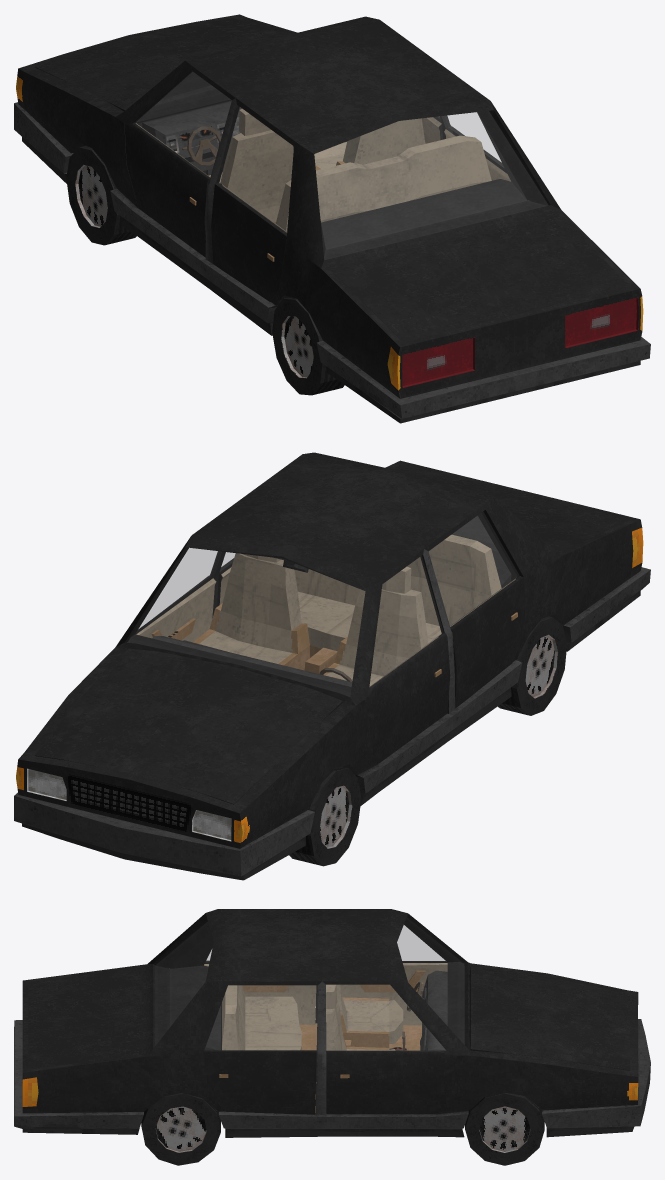
File: Car.glb
The picture shows the model from 3 angles, top to bottom: view 1: azimuth 30°, elevation 25°; view 2: azimuth 150°, elevation 25°; view 3: azimuth 270°, elevation 25°; orthographic projection. The views are drawn at different scales.
Visible parts, largest first — view 1: Car_Base, Trunk, L_Door_Front, L_Door_Back, Car_Hood, L_Wheel_Back, L_Wheel_Front, R_Door_Back, SteeringWheel; view 2: Car_Base, Car_Hood, L_Door_Front, L_Door_Back, Trunk, R_Door_Front, L_Wheel_Front, L_Wheel_Back; view 3: Car_Base, R_Door_Front, R_Door_Back, Car_Hood, Trunk, R_Wheel_Front, R_Wheel_Back, L_Door_Front, L_Door_Back.
Part boxes in pixels (box(x1,y1,x2,y2)): Car_Base: box(14, 14, 650, 423); Trunk: box(331, 215, 630, 341); L_Door_Front: box(124, 72, 231, 257); L_Door_Back: box(211, 108, 293, 301); Car_Hood: box(35, 18, 287, 111); L_Wheel_Back: box(272, 297, 344, 395); L_Wheel_Front: box(66, 145, 136, 245); R_Door_Back: box(442, 113, 510, 181); SteeringWheel: box(187, 126, 221, 165); Car_Base: box(14, 452, 650, 880); Car_Hood: box(34, 648, 342, 804); L_Door_Front: box(364, 557, 450, 763); L_Door_Back: box(429, 512, 524, 708); Trunk: box(392, 464, 630, 553); R_Door_Front: box(135, 548, 217, 642); L_Wheel_Front: box(289, 766, 361, 866); L_Wheel_Back: box(498, 616, 566, 715); Car_Base: box(14, 909, 650, 1137); R_Door_Front: box(326, 985, 456, 1114); R_Door_Back: box(203, 986, 317, 1114); Car_Hood: box(469, 967, 630, 1070); Trunk: box(28, 967, 141, 1069); R_Wheel_Front: box(465, 1093, 544, 1165); R_Wheel_Back: box(141, 1093, 220, 1165); L_Door_Front: box(340, 926, 447, 1025); L_Door_Back: box(204, 953, 316, 1024).
Size of the model in its own units: 2.56 by 2.23 by 7.1.
Materials: 2 (2 with a texture image).
